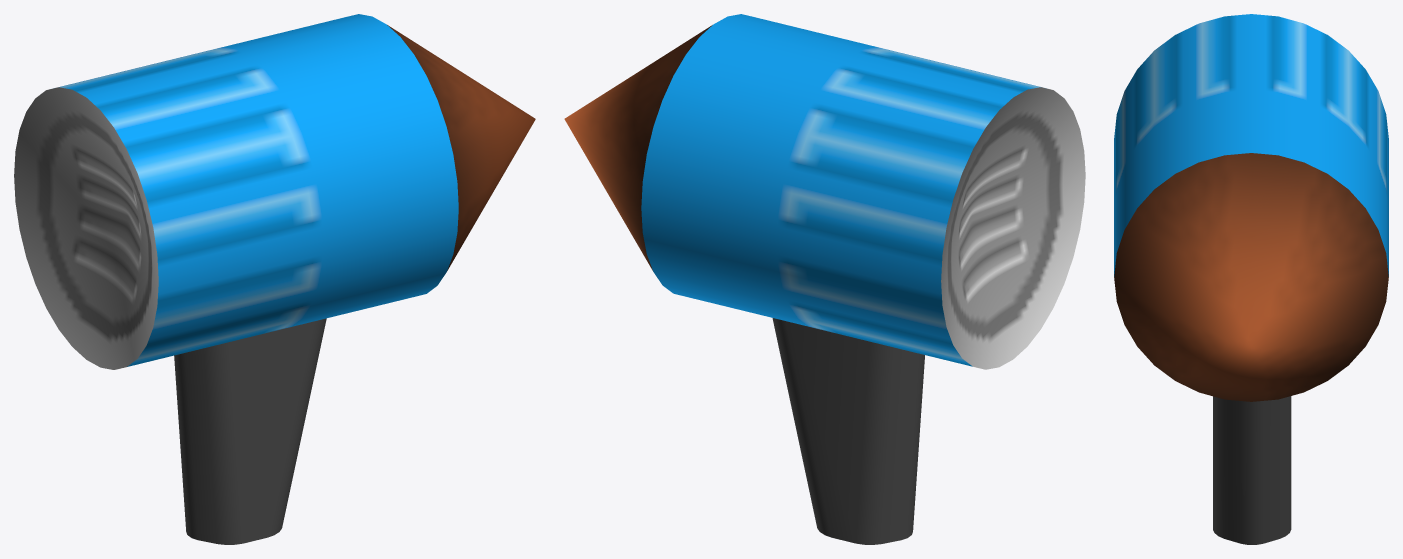
Rendered from human9.obj.
3 renders of one model, left to right at view 1: azimuth 30°, elevation 25°; view 2: azimuth 150°, elevation 25°; view 3: azimuth 270°, elevation 25°, orthographic. The views are drawn at different scales.
Parts seen in each view (by area): view 1: ColobotMesh_1_ColobotMesh_, ColobotMesh_1.001_ColobotMesh_.001; view 2: ColobotMesh_1_ColobotMesh_, ColobotMesh_1.001_ColobotMesh_.001; view 3: ColobotMesh_1_ColobotMesh_, ColobotMesh_1.001_ColobotMesh_.001.
Boxes of the visible parts, bbox=[...] form: ColobotMesh_1_ColobotMesh_: bbox=[14, 14, 535, 369]; ColobotMesh_1.001_ColobotMesh_.001: bbox=[174, 318, 326, 544]; ColobotMesh_1_ColobotMesh_: bbox=[564, 14, 1085, 369]; ColobotMesh_1.001_ColobotMesh_.001: bbox=[772, 318, 924, 544]; ColobotMesh_1_ColobotMesh_: bbox=[1114, 14, 1388, 401]; ColobotMesh_1.001_ColobotMesh_.001: bbox=[1213, 396, 1291, 544].
Bounding box in the file's own units: 1.79 × 1.77 × 1.
